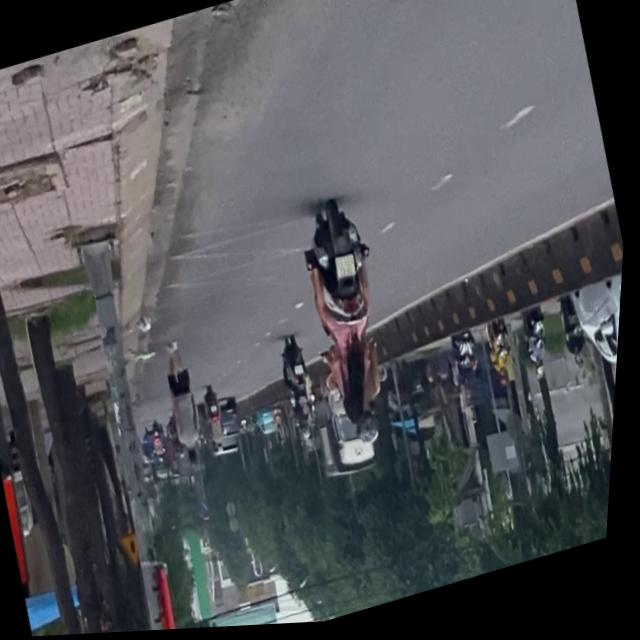helmet: (359, 412, 391, 451)
licenseplate: (286, 193, 424, 461)
motorcyclist: (343, 383, 377, 431)
nohelmet: (337, 256, 361, 282)
